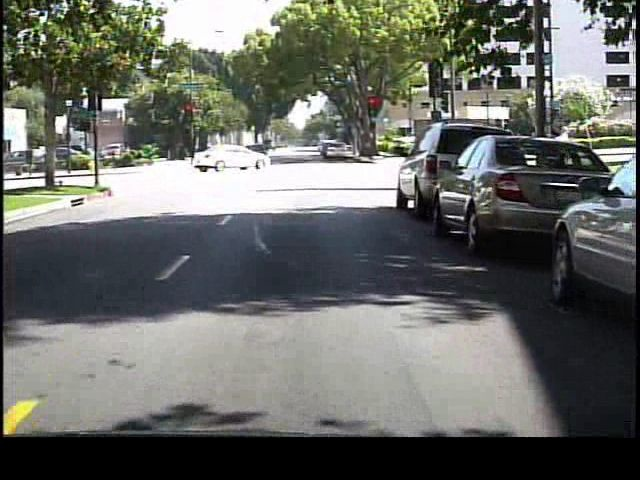person: (261, 140, 277, 171)
